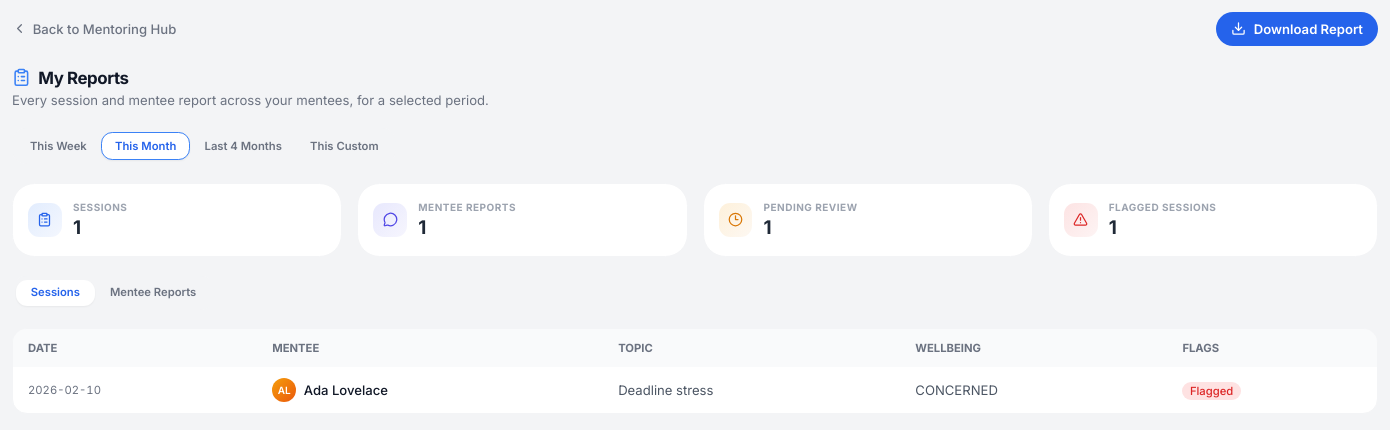
Scenario: MentorReportsView › switches to the check-ins tab and shows mentee reports
Click the button "Mentee Reports".
click(153, 293)  # box [95,280,211,306]
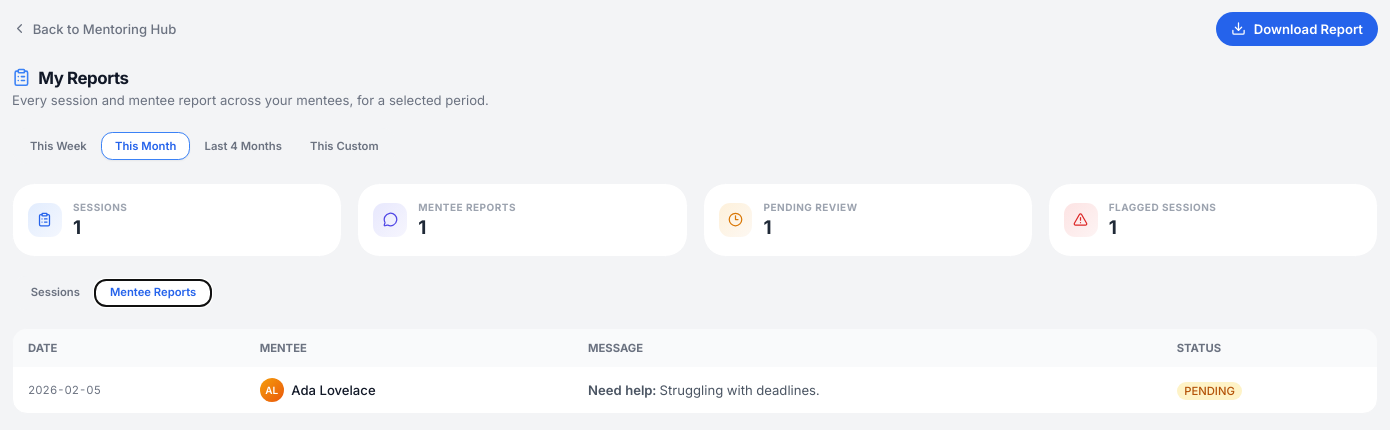
Result: the text "Need help: Struggling with deadlines." is shown at [573,367,1162,413]
